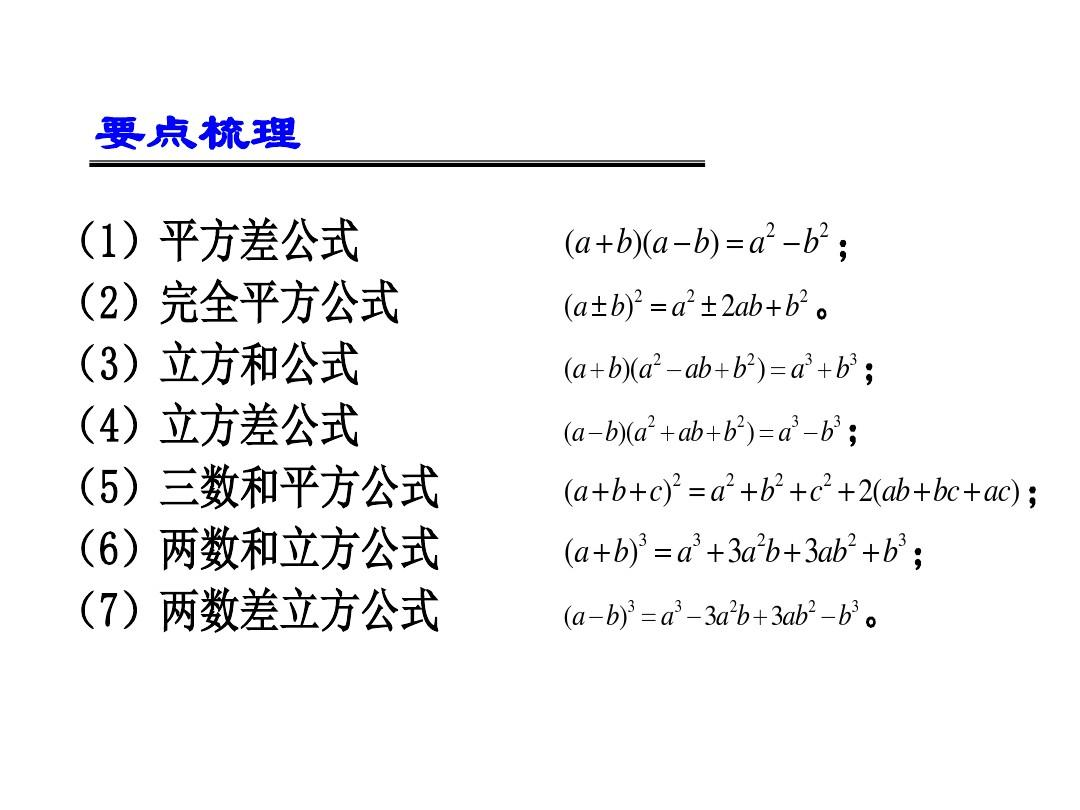cube: (804, 349, 816, 370), (896, 530, 909, 548), (691, 530, 703, 549), (831, 413, 844, 428), (848, 352, 859, 368), (791, 413, 801, 429), (628, 595, 636, 615), (638, 533, 649, 546), (850, 598, 860, 611), (675, 599, 682, 612)
square: (734, 409, 749, 433), (796, 284, 808, 310), (764, 221, 778, 242), (650, 349, 665, 368), (670, 470, 683, 490), (725, 469, 738, 489), (820, 469, 832, 490), (820, 221, 832, 238), (745, 349, 756, 367), (755, 531, 767, 547), (729, 595, 739, 614), (778, 469, 787, 489), (645, 415, 656, 431), (846, 534, 857, 549), (686, 289, 696, 305), (808, 597, 815, 618), (632, 288, 641, 304)
